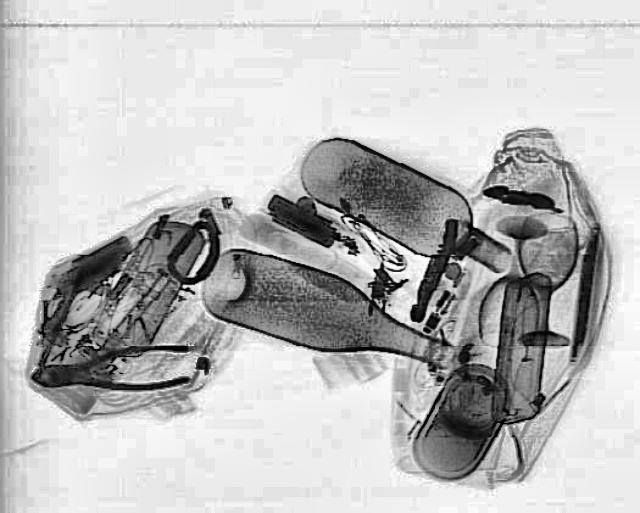Pliers: (27, 342, 192, 396)
